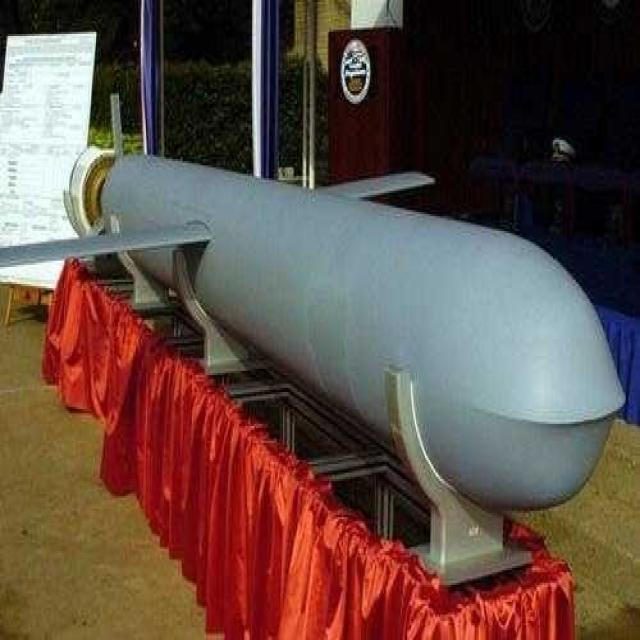missile: (2, 86, 626, 595)
